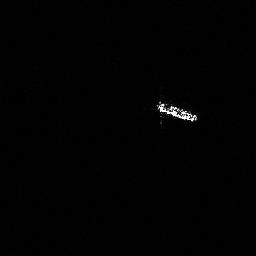ship: (152, 96, 200, 125)
